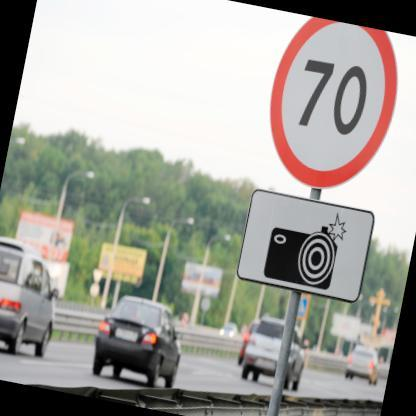road_sign: (271, 19, 396, 187), (237, 190, 374, 301)
